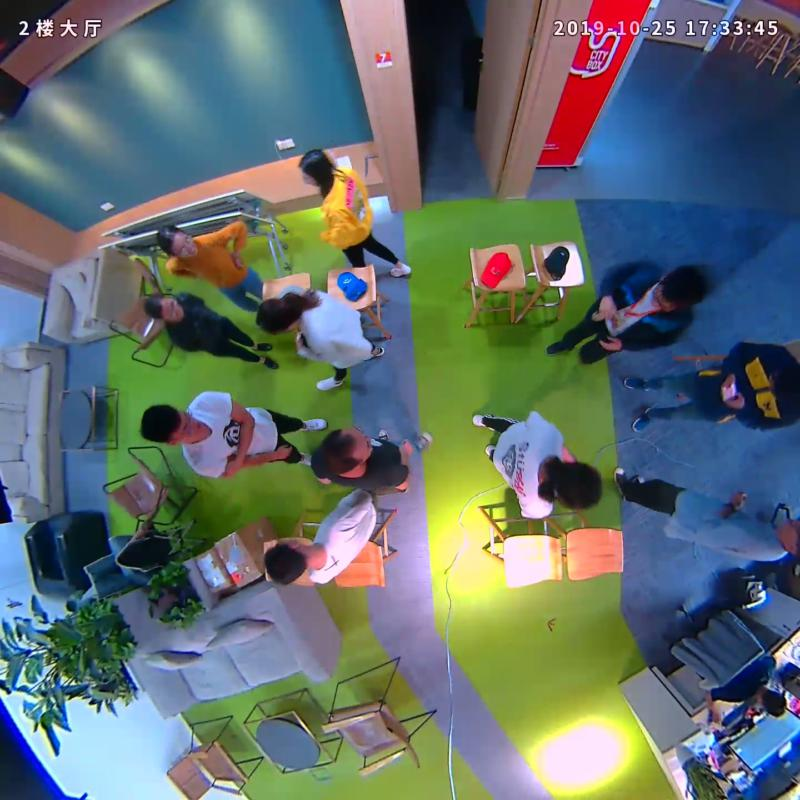head: (548, 460, 603, 511), (651, 264, 708, 311), (140, 404, 205, 445), (319, 426, 373, 471), (265, 537, 312, 585), (255, 295, 298, 334), (155, 225, 199, 261), (299, 149, 331, 186), (143, 295, 183, 322)
